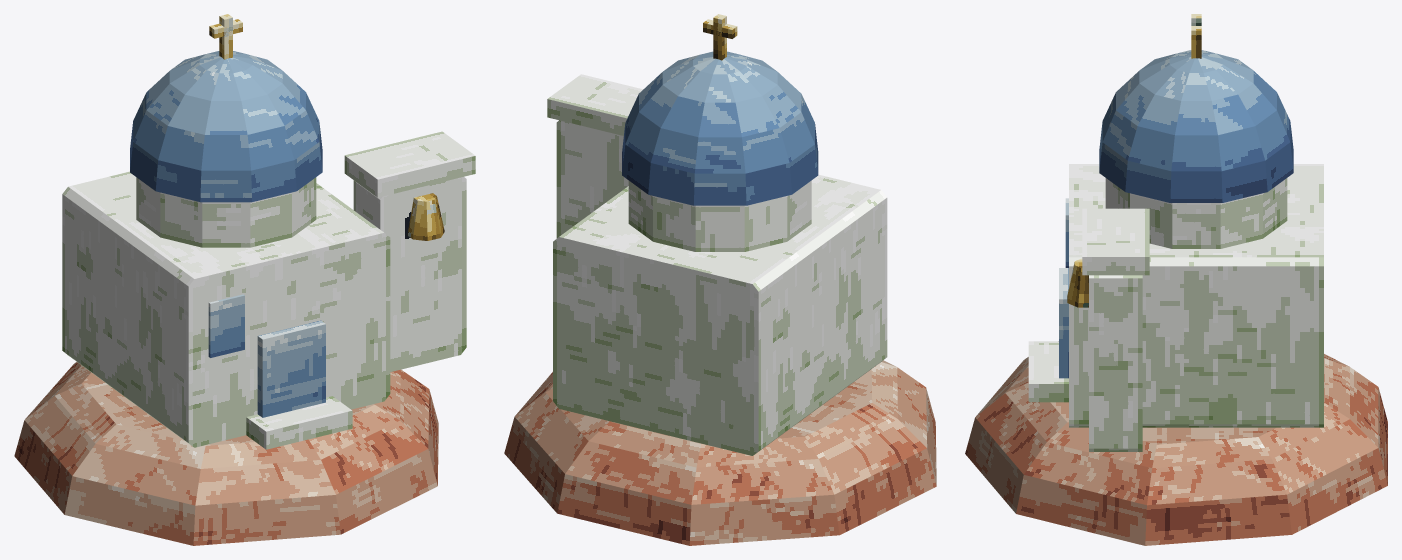
File: sv_bluedome.glb
3 renders of one model, left to right at view 1: azimuth 30°, elevation 25°; view 2: azimuth 150°, elevation 25°; view 3: azimuth 270°, elevation 25°, orthographic.
Parts seen in each view (by area): view 1: nave, rock, dome, bellwall, drum, door, belltop, step, window, bell, cross_v; view 2: nave, rock, dome, drum, bellwall, belltop, cross_v; view 3: rock, nave, dome, bellwall, drum, belltop, step, door, bell.
Boxes of the visible parts, x1,y1,x2,y2 form: nave: [62, 171, 390, 447]; rock: [14, 362, 438, 545]; dome: [130, 51, 322, 202]; bellwall: [353, 177, 466, 371]; drum: [136, 177, 316, 247]; door: [257, 320, 325, 417]; belltop: [344, 131, 475, 197]; step: [246, 396, 352, 449]; window: [208, 294, 244, 357]; bell: [407, 193, 444, 240]; cross_v: [219, 14, 232, 59]; nave: [553, 174, 887, 455]; rock: [504, 360, 936, 545]; dome: [622, 51, 818, 205]; drum: [628, 180, 811, 251]; bellwall: [556, 120, 628, 238]; belltop: [547, 74, 642, 135]; cross_v: [713, 14, 726, 60]; rock: [965, 341, 1387, 545]; nave: [1069, 164, 1323, 427]; dome: [1099, 50, 1293, 202]; bellwall: [1089, 275, 1142, 451]; drum: [1105, 178, 1287, 248]; belltop: [1082, 208, 1149, 275]; step: [1028, 341, 1068, 402]; door: [1059, 268, 1068, 378]; bell: [1067, 258, 1088, 307].
Size of the model in its own units: 0.825 by 0.9 by 0.788.
1 material, 1 textured.
